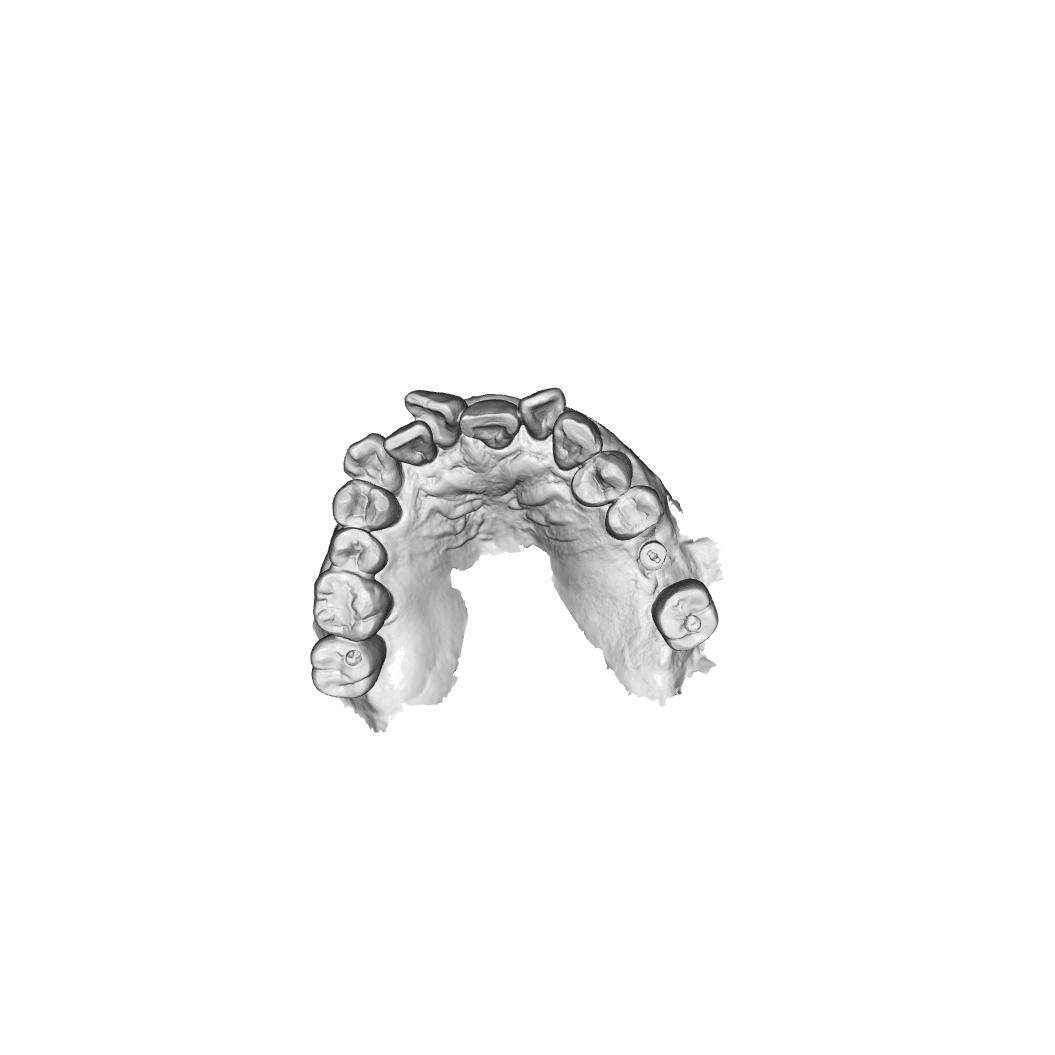canine: (342, 430, 403, 493), (551, 409, 604, 471)
implant_minus: (636, 540, 670, 572)
incisor: (403, 389, 469, 451), (458, 397, 522, 452), (517, 386, 567, 442), (382, 420, 438, 467)
molar: (312, 568, 394, 642), (308, 633, 388, 700), (650, 577, 720, 653)
premolar: (331, 478, 402, 532), (570, 450, 633, 508), (604, 484, 663, 541), (328, 526, 389, 576)
